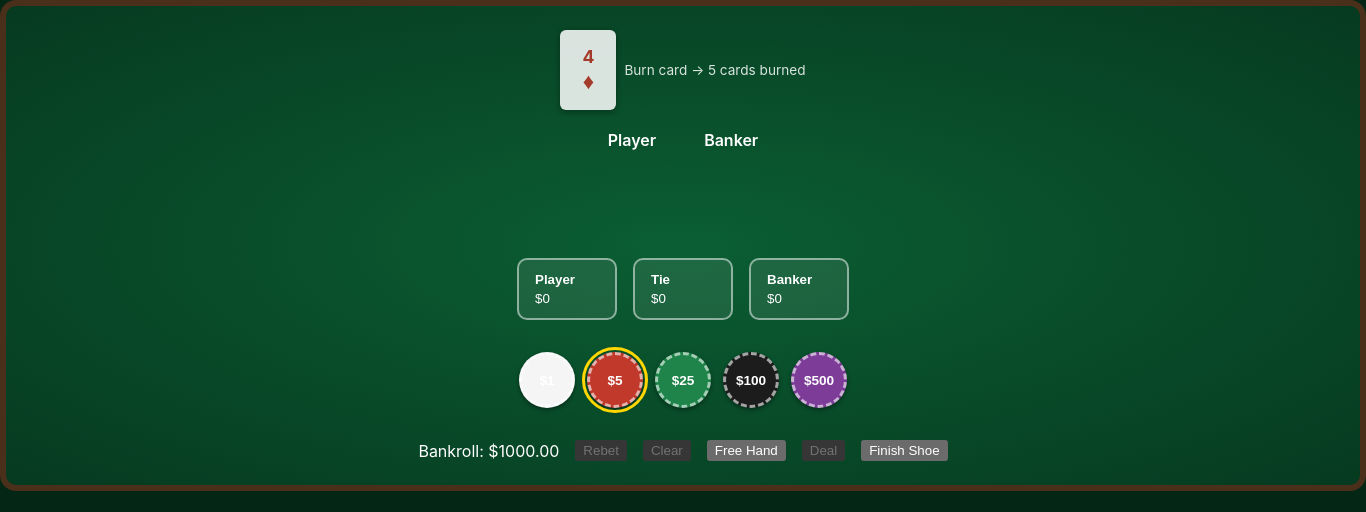
Test case: Table › Rebet re-places the previous bet after Next Hand
Expected: the text "Bankroll: $1000.00" is shown, [418,440,559,460]
Click the button with test id "chip-25" at (683, 380), box [655,352,711,408]
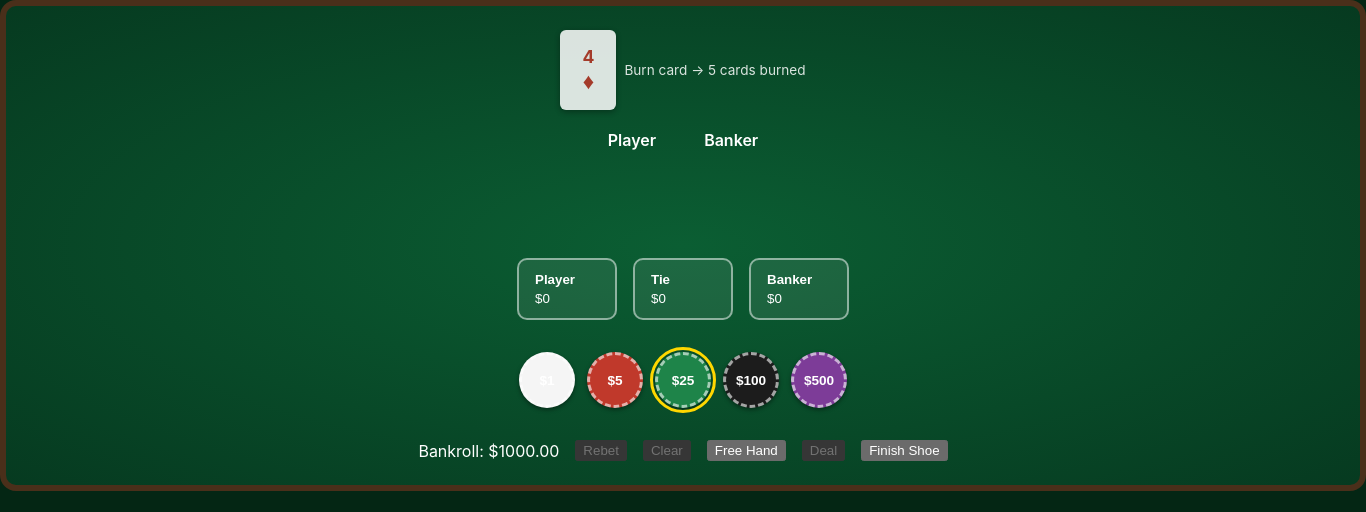
Click the button with test id "bet-spot-player" at (567, 289), box [517,258,617,320]
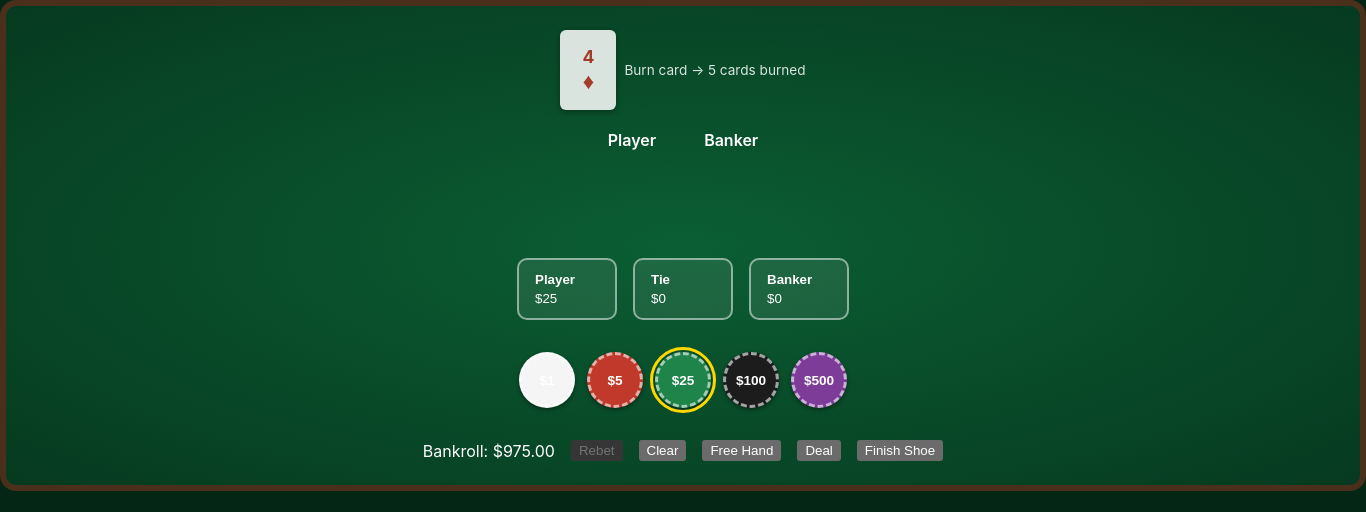
Result: the text "Bankroll: $975.00" is shown at [423,440,555,460]
Click the button "Deal" at (819, 450), box [797,440,841,461]
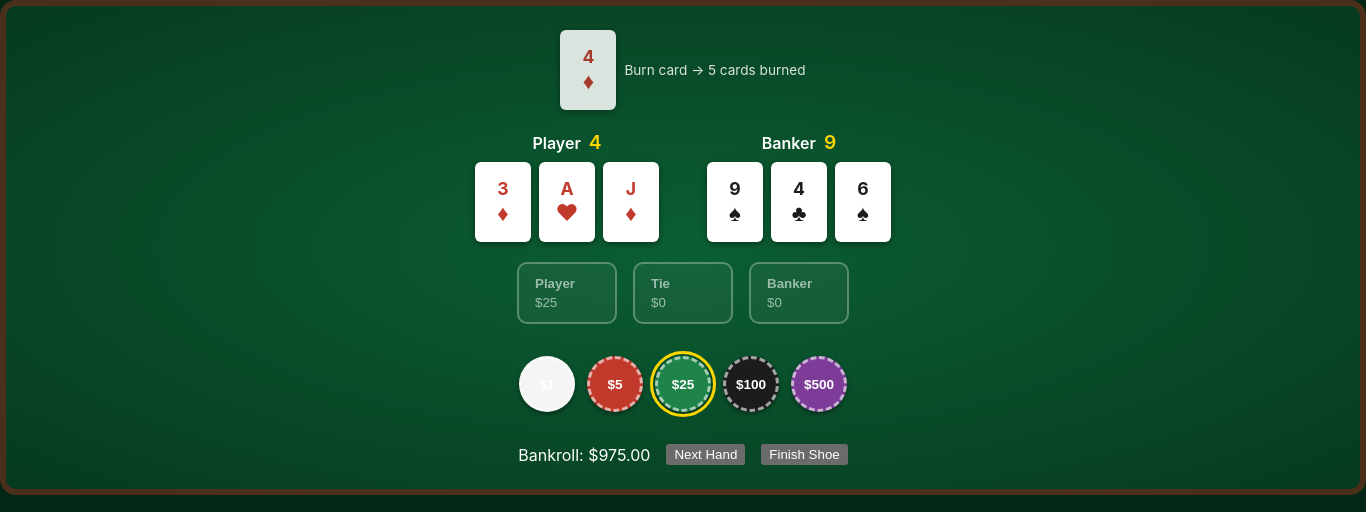
Result: the button "Next Hand" is shown
Click the button "Next Hand" at (706, 454), box [666,444,745,465]
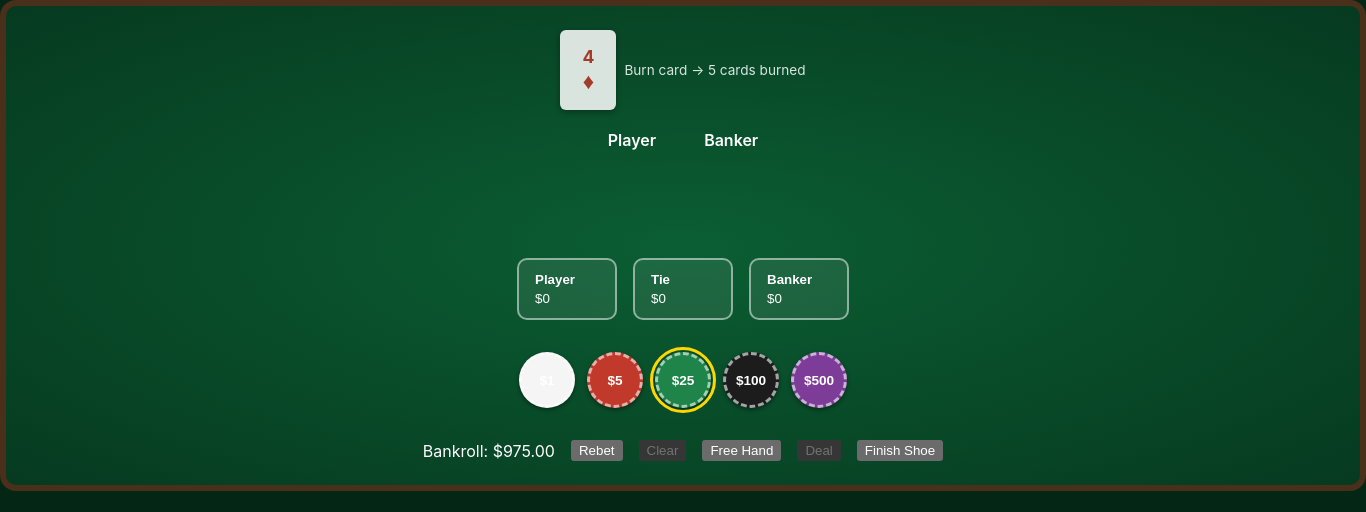
Result: the button "Rebet" is enabled
Click the button "Rebet" at (597, 450), box [571,440,623,461]
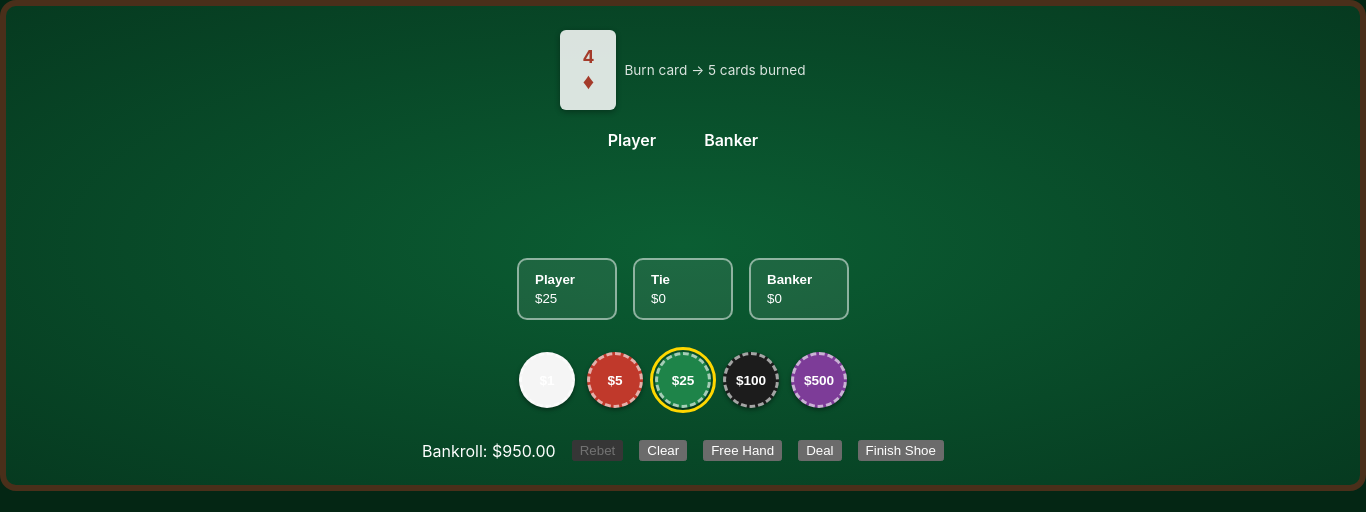
Result: the button with test id "bet-spot-player" shows "$25" at [517,258,617,320]
